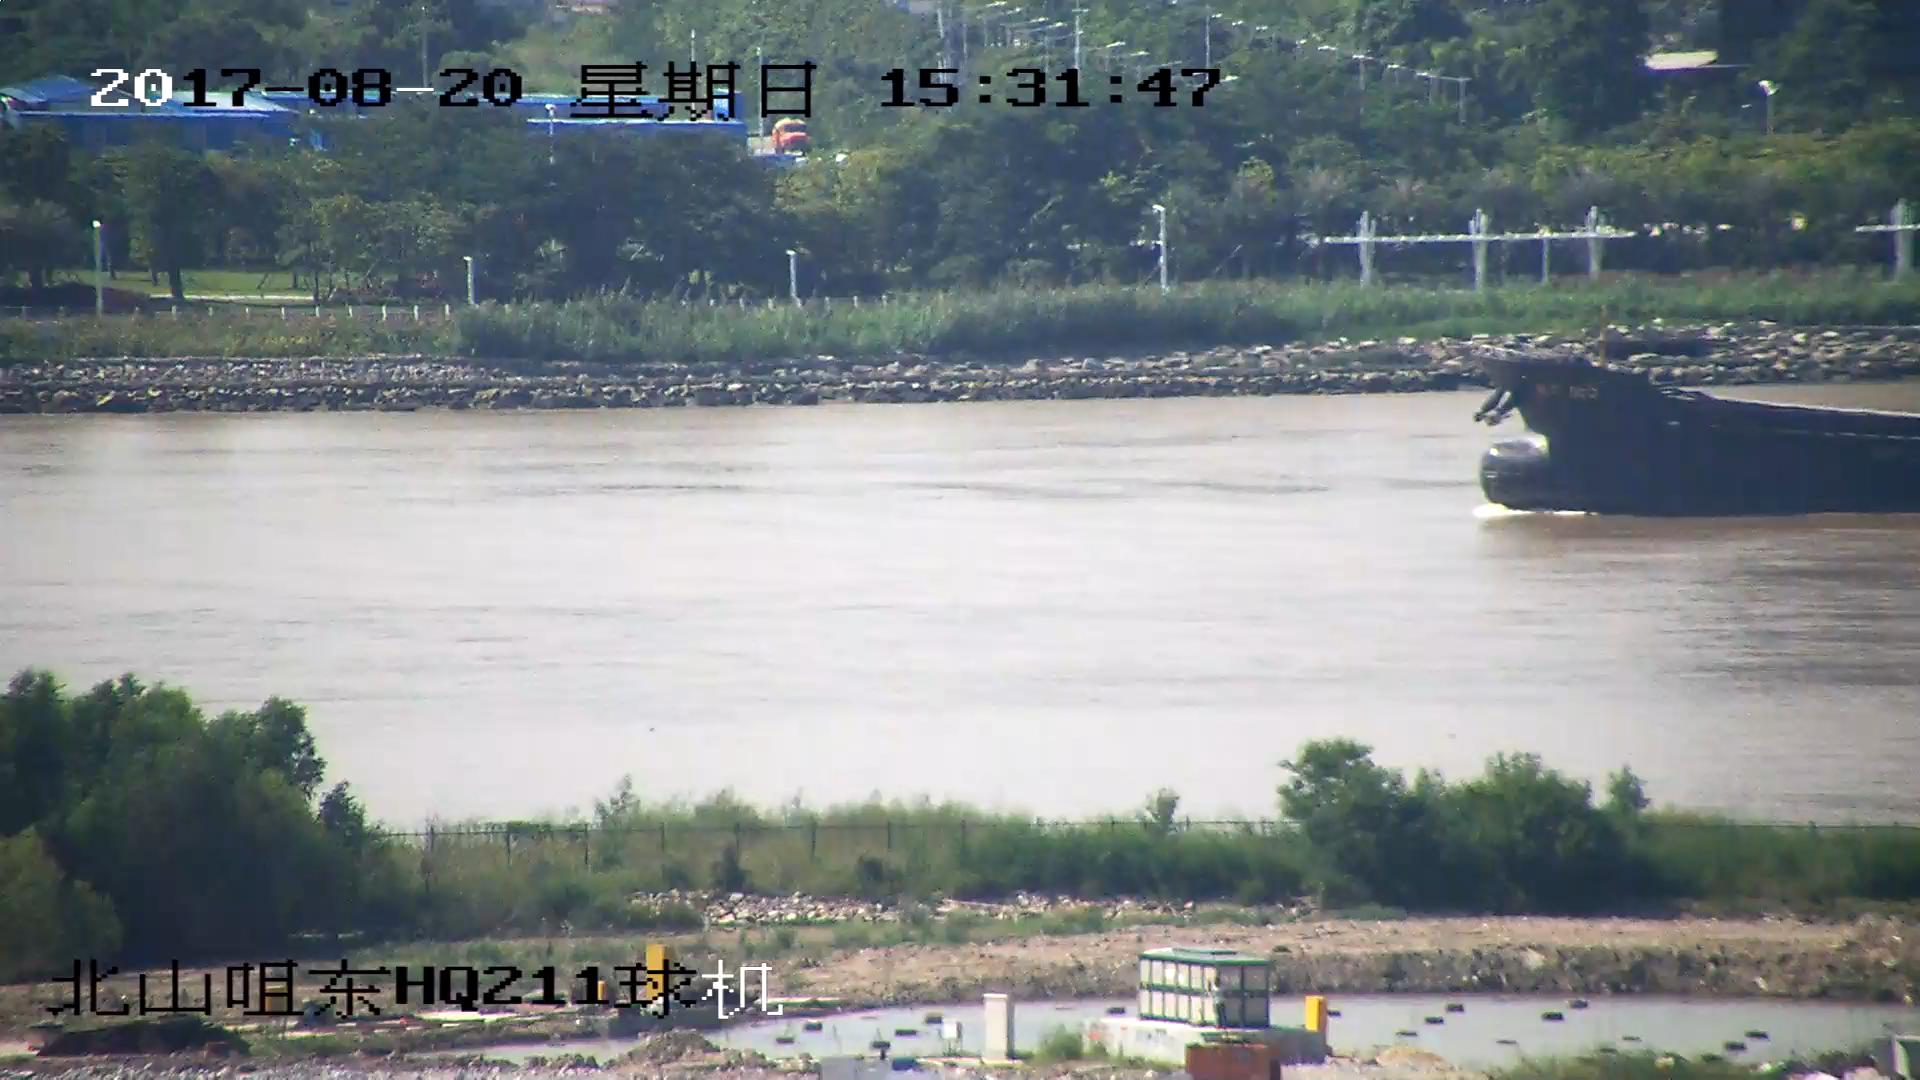general cargo ship: (1445, 342, 1920, 510)
